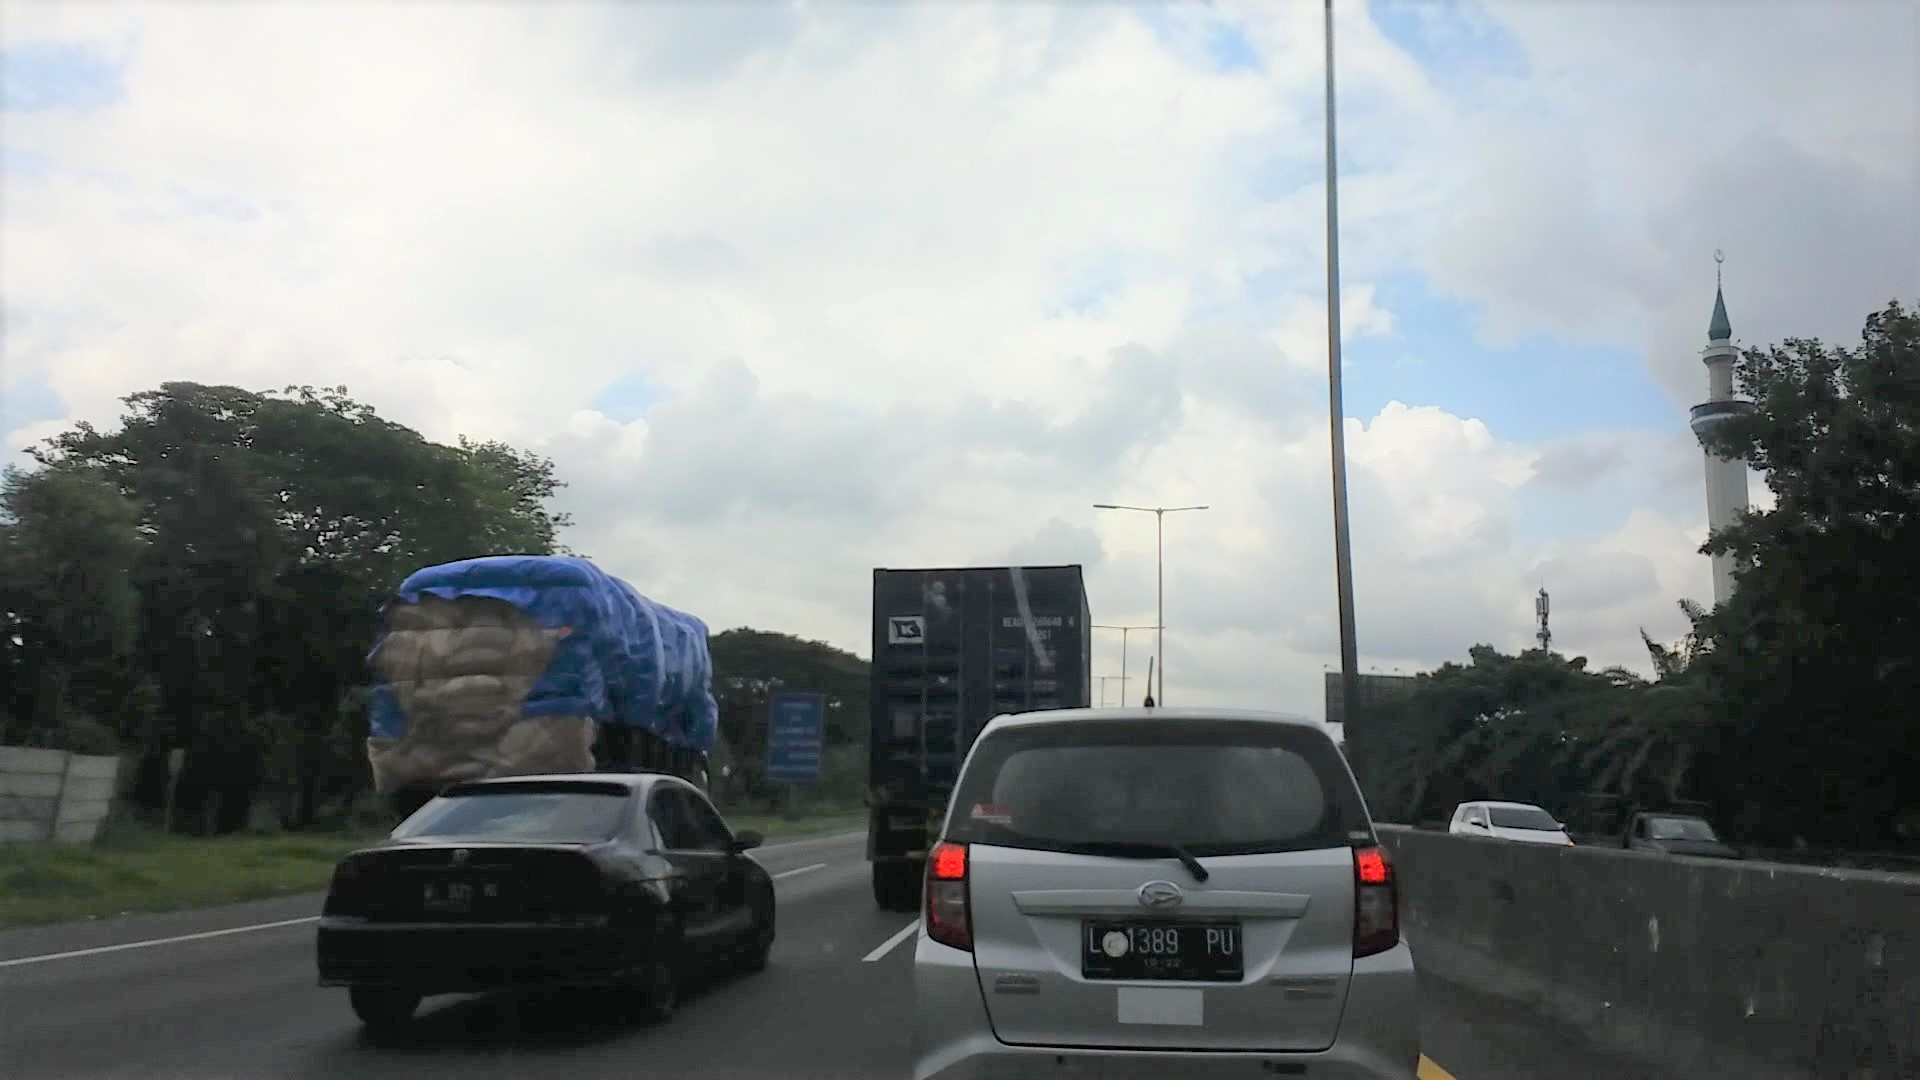plate_positive: (1083, 916, 1244, 982)
